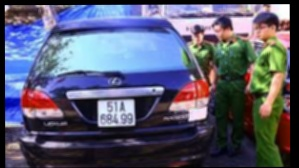Bien-so: (95, 96, 140, 126)
